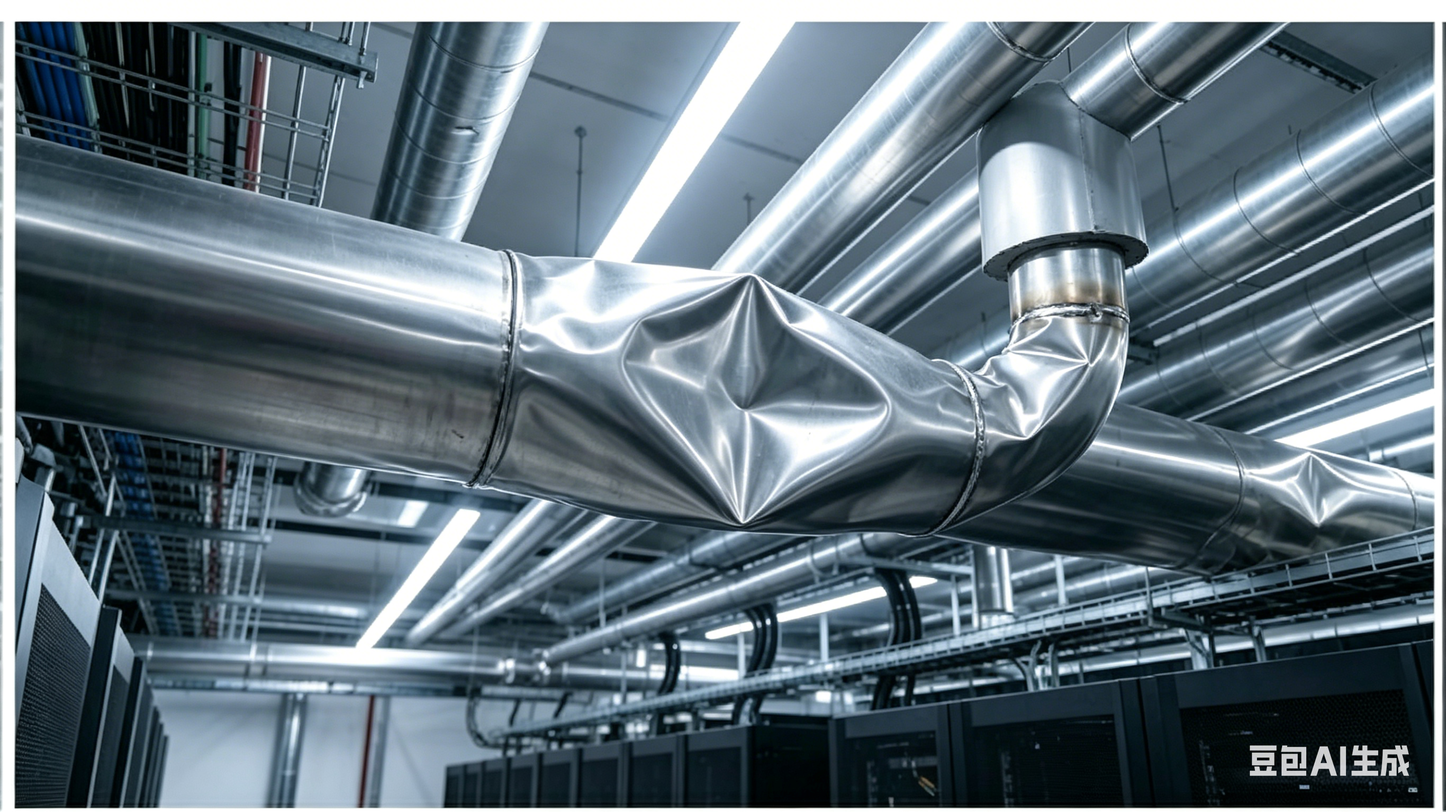Leakage: (571, 258, 891, 534), (989, 321, 1116, 448), (1241, 447, 1369, 520)
